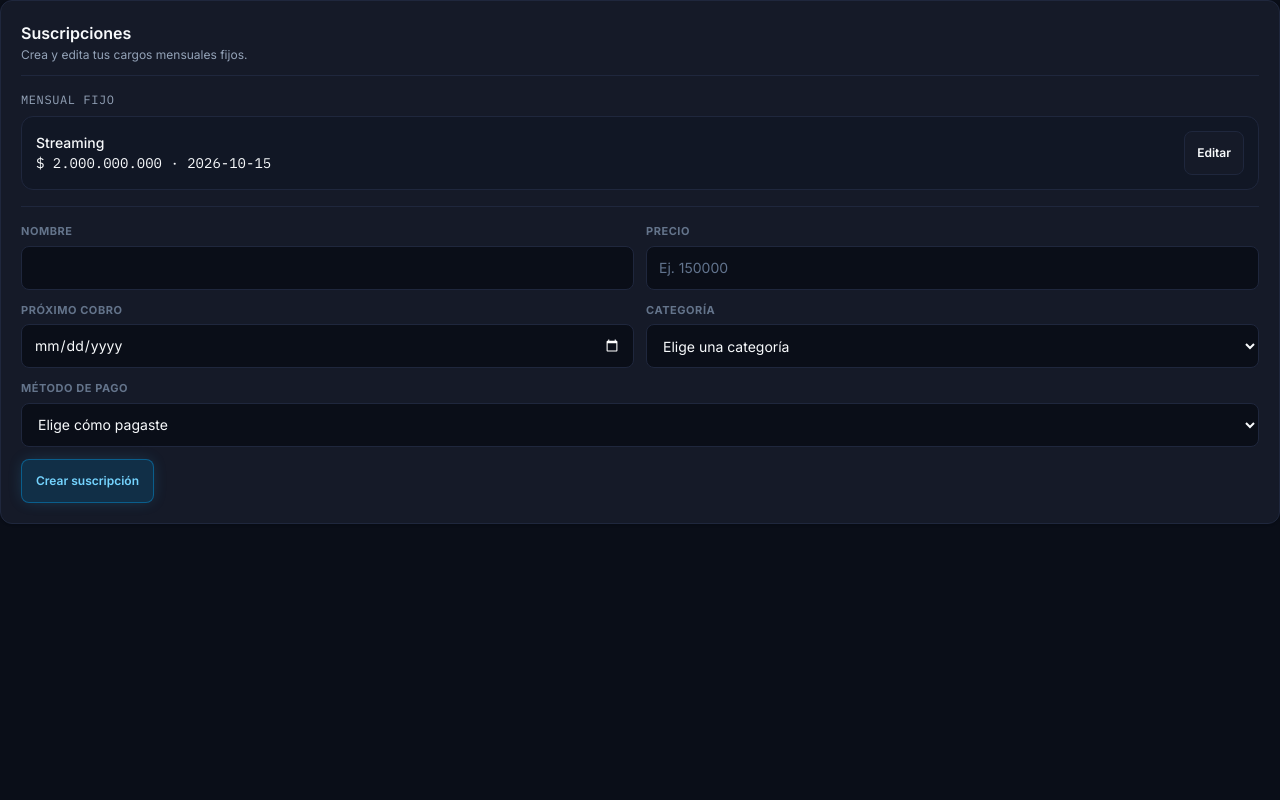
Test case: SubscriptionsSection › surfaces the server's Spanish reason when a legacy oversized price is rejected (F11.3)
The image size is (1280, 800).
Check: the text "Streaming" is shown, box [36, 134, 104, 151]
Click the button "Editar".
click(1214, 153)  # box [1184, 131, 1244, 175]
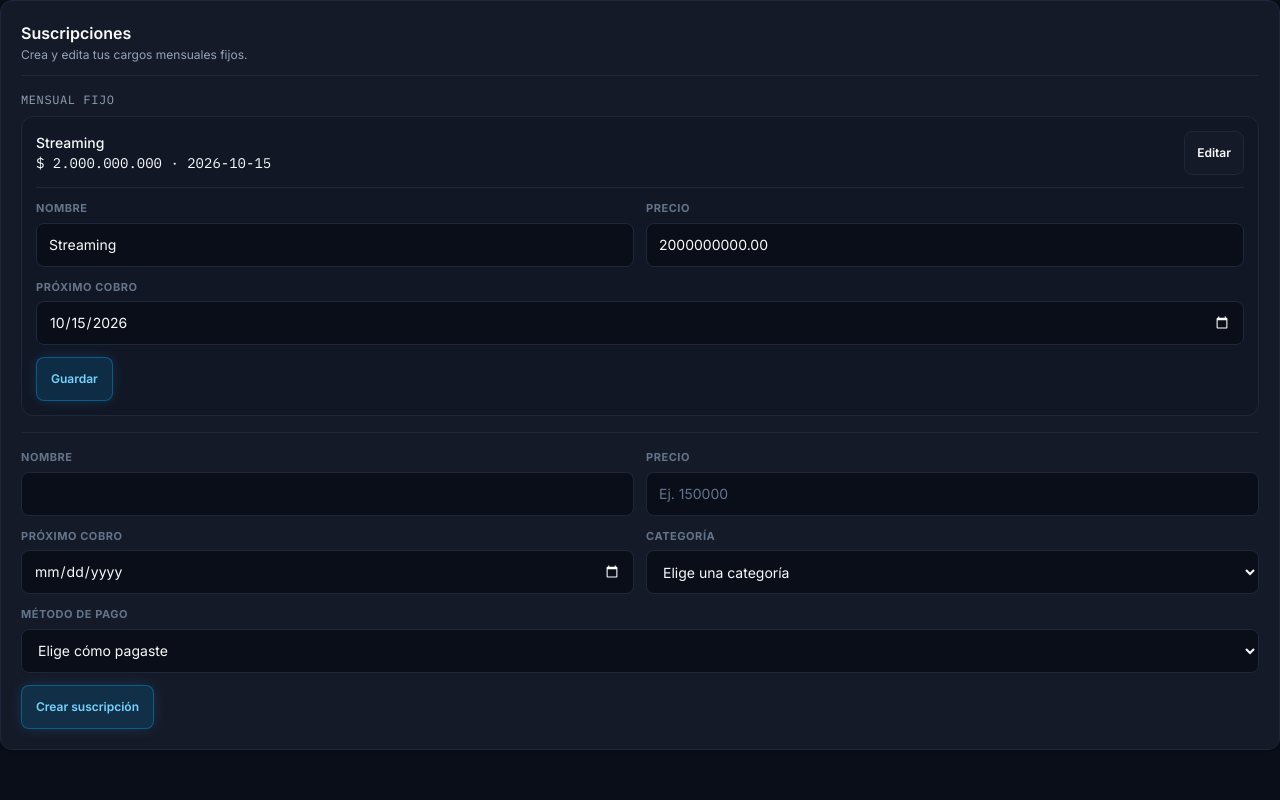
// Name-only edit: the legacy oversized stored price is sent back unchanged.
Replace the text in the field labelled "Nombre" below "$ 2.000.000.000" with "Streaming Plus" at (335, 244), box [36, 222, 634, 266]
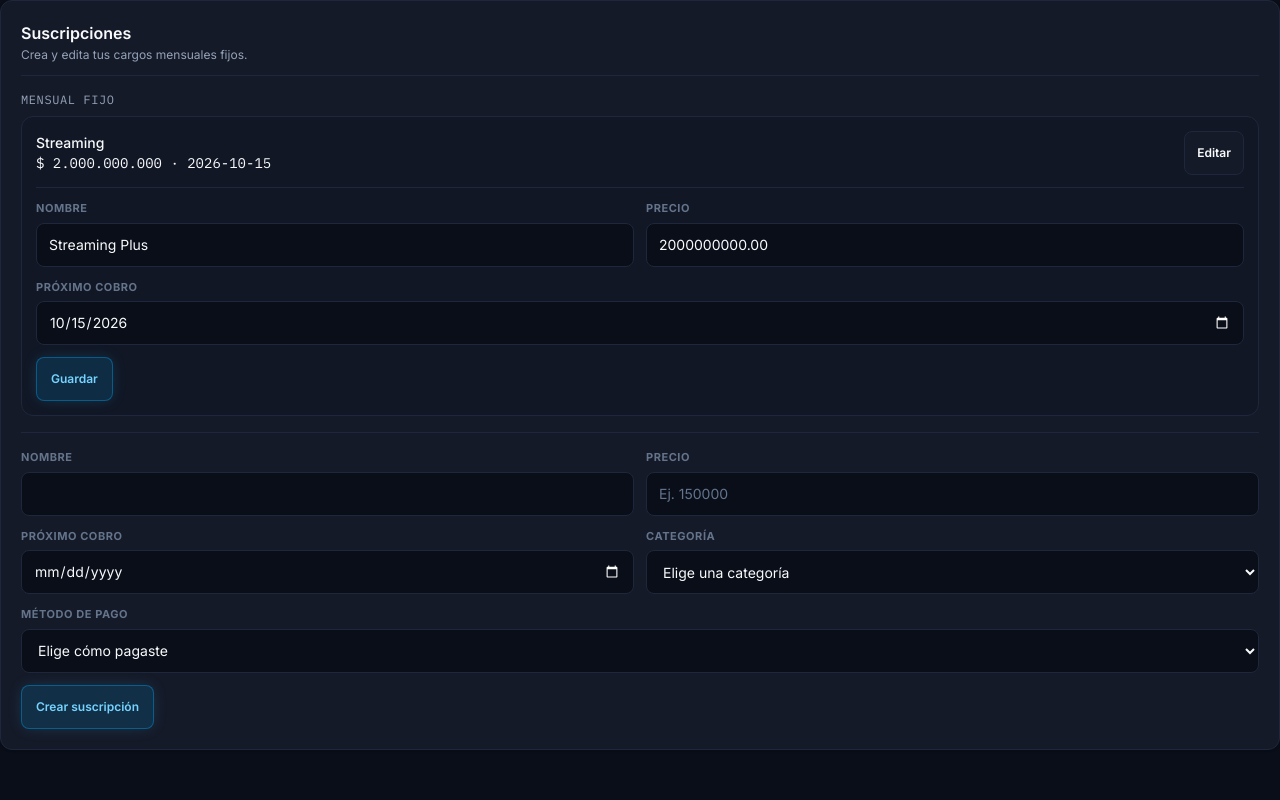
Click the button "Guardar".
click(74, 379)  # box [36, 357, 113, 401]
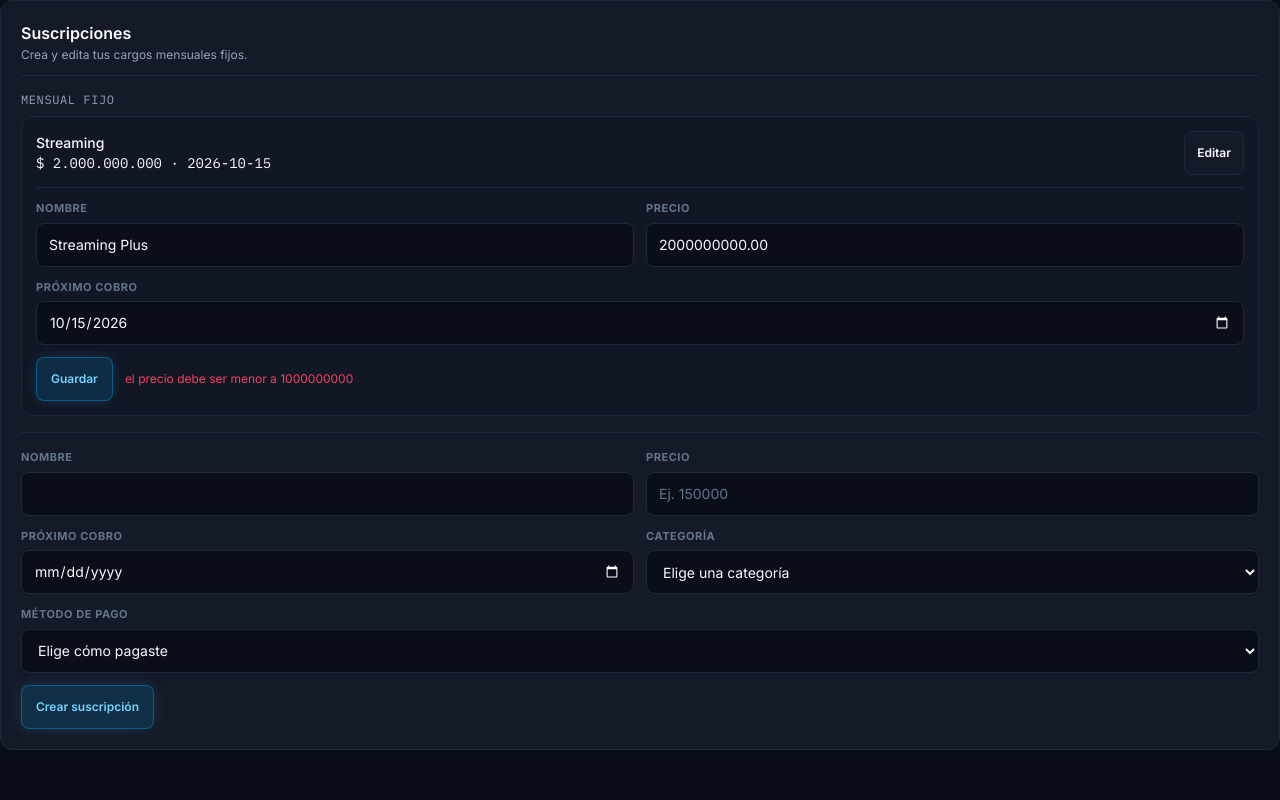
Check: the message does not show "No se pudo guardar", box [125, 371, 353, 387]
Check: the message reads "el precio debe ser menor a 1000000000", box [125, 371, 353, 386]
